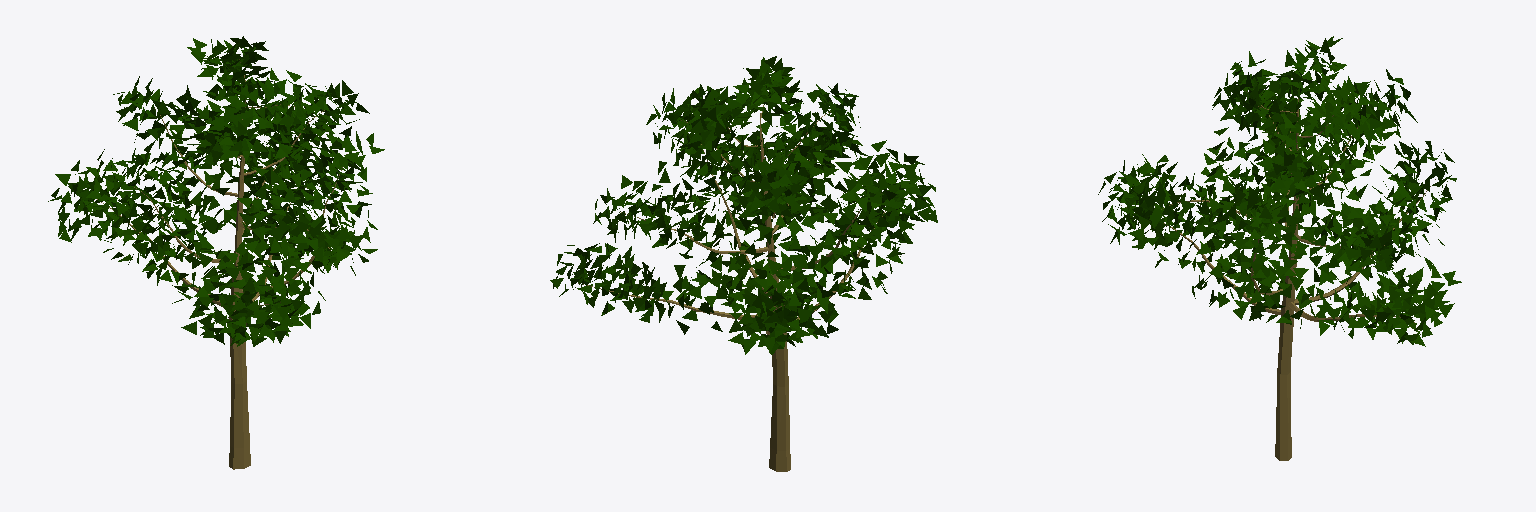
Rendered from tree.obj.
3 views of the same model, side by side, from view 1: azimuth 30°, elevation 25°; view 2: azimuth 150°, elevation 25°; view 3: azimuth 270°, elevation 25° (orthographic).
Parts seen in each view (by area): view 1: foilage, trunksmpl, branchtwigs; view 2: foilage, trunksmpl, branchtwigs; view 3: foilage, trunksmpl, branchtwigs.
Part boxes in pixels (bbox=[...]): foilage: bbox=[48, 36, 384, 346]; trunksmpl: bbox=[229, 99, 250, 469]; branchtwigs: bbox=[97, 59, 346, 325]; foilage: bbox=[550, 56, 937, 354]; trunksmpl: bbox=[760, 113, 790, 471]; branchtwigs: bbox=[578, 105, 885, 334]; foilage: bbox=[1098, 36, 1461, 346]; trunksmpl: bbox=[1275, 98, 1298, 460]; branchtwigs: bbox=[1121, 91, 1435, 322].
Bounding box in the file's own units: 750 × 1000 × 800.